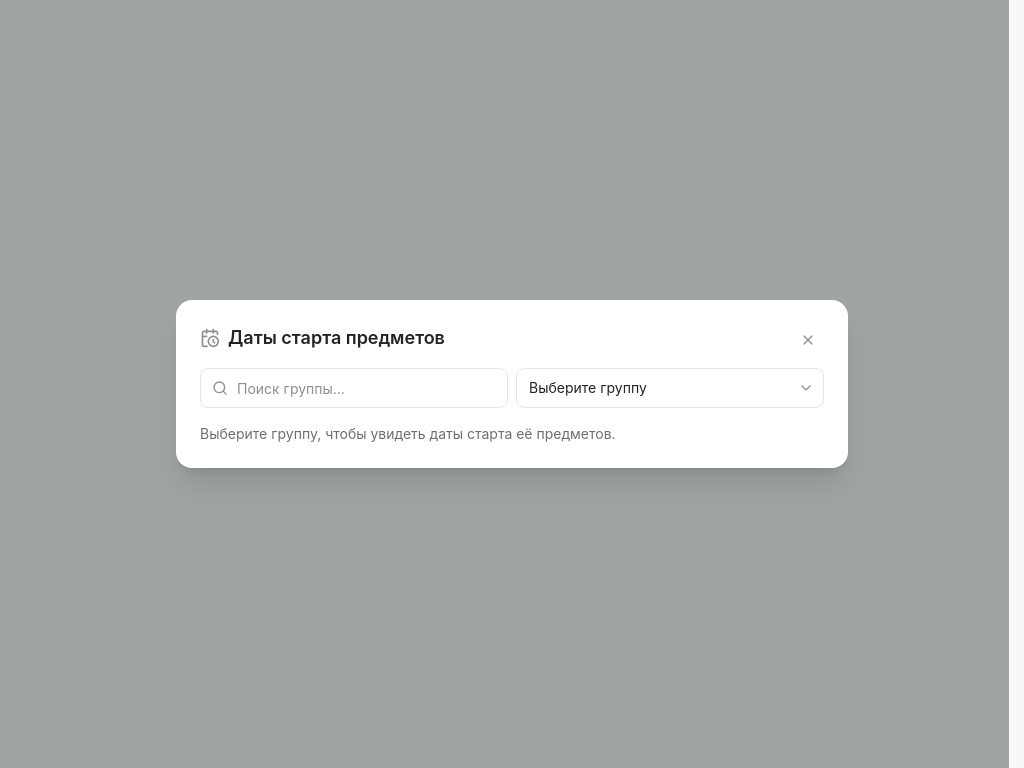
SubjectStartDatesModal › lets the user pick a group first when opened without one
Expected: the text "Выберите группу, чтобы увидеть даты старта её предметов." is shown, [200,425,616,442]
Select "Prog SOFT 1 · Робототехника: базовый курс" in the dropdown named "Группа": (670, 388) [516,368,824,408]
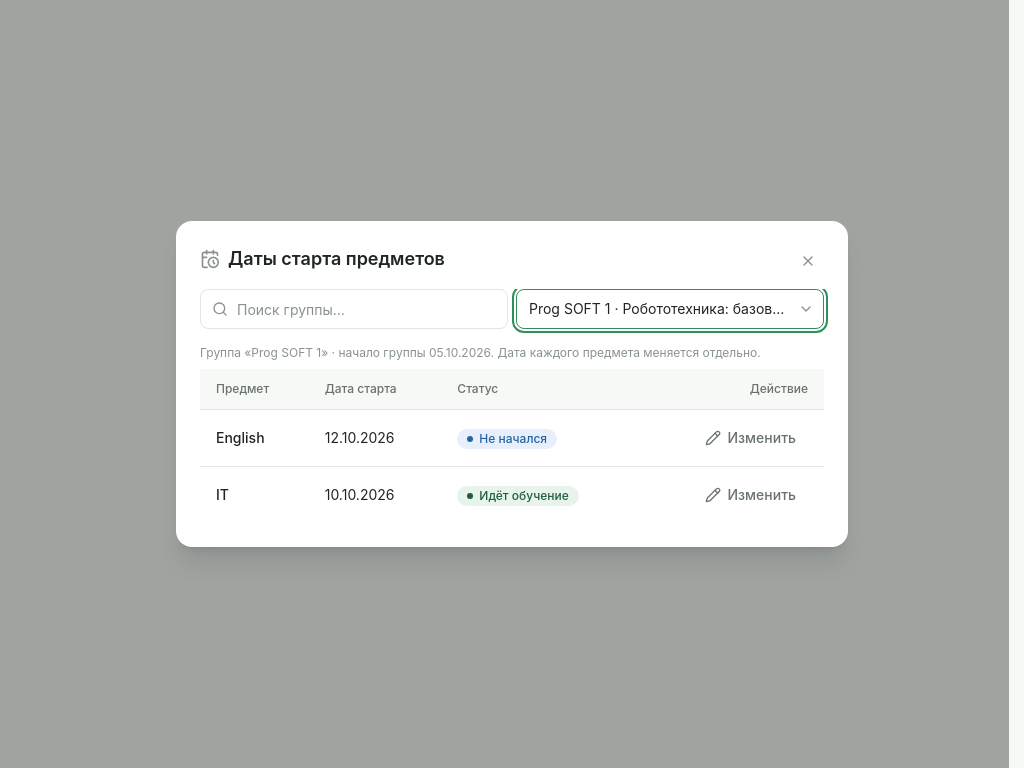
Now the number of rows with test id "subject-start-row" is 2, box [200,410,824,466]; [200,466,824,523]
